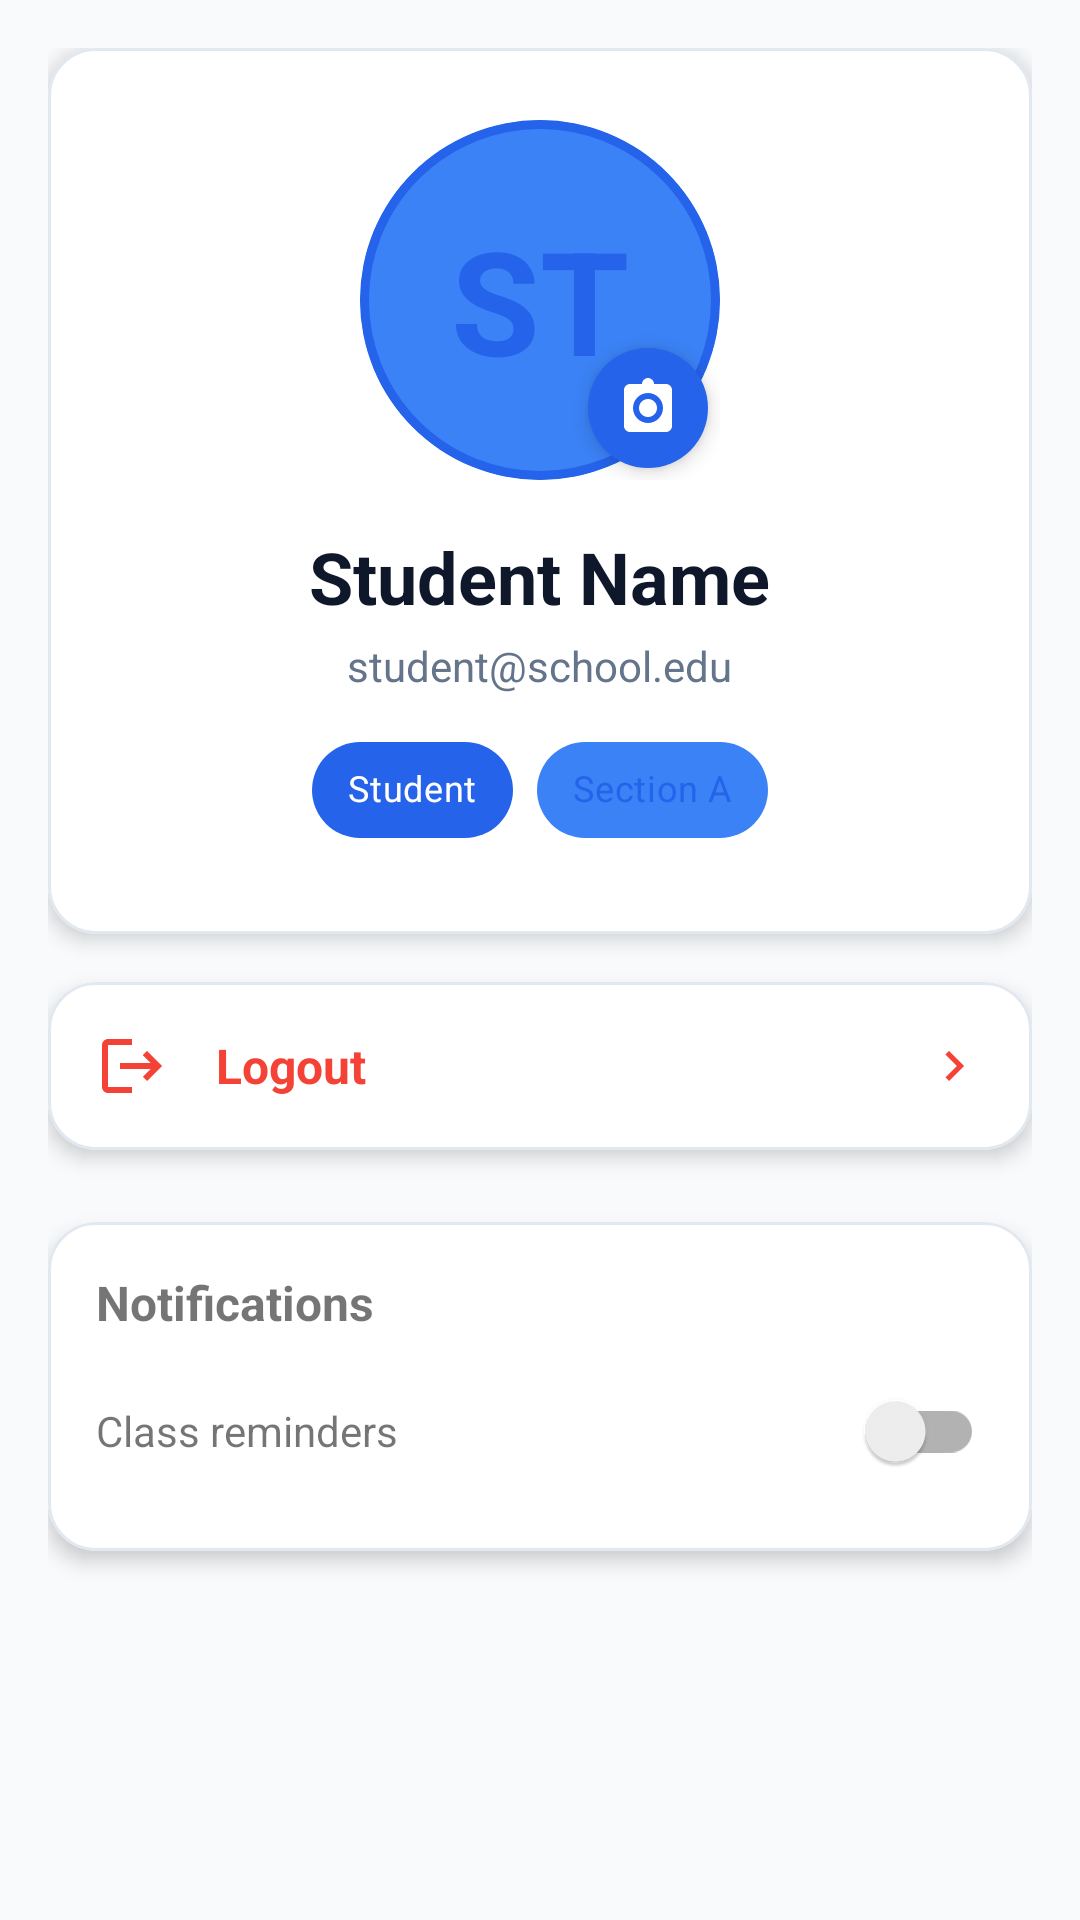

Named icons in this screenshot (1080*1920) and their centers, [x,y]:
arrow right: [954,1066]
camera: [648,408]
